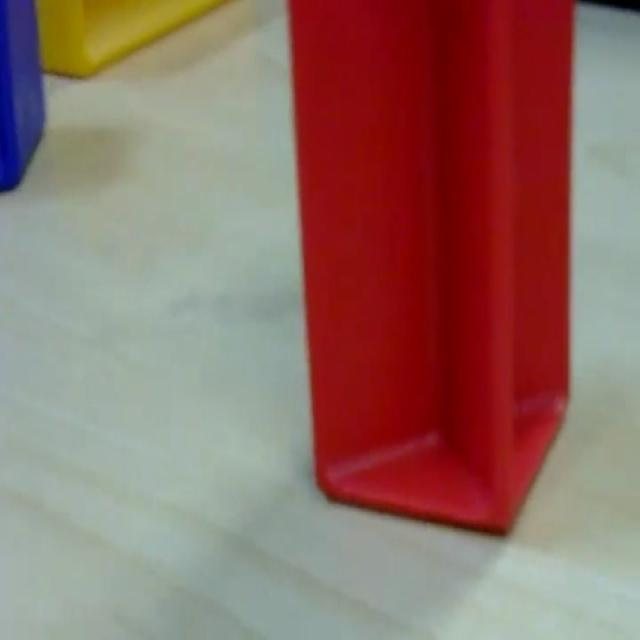red_block: (285, 0, 576, 536)
yellow_block: (34, 0, 230, 79)
